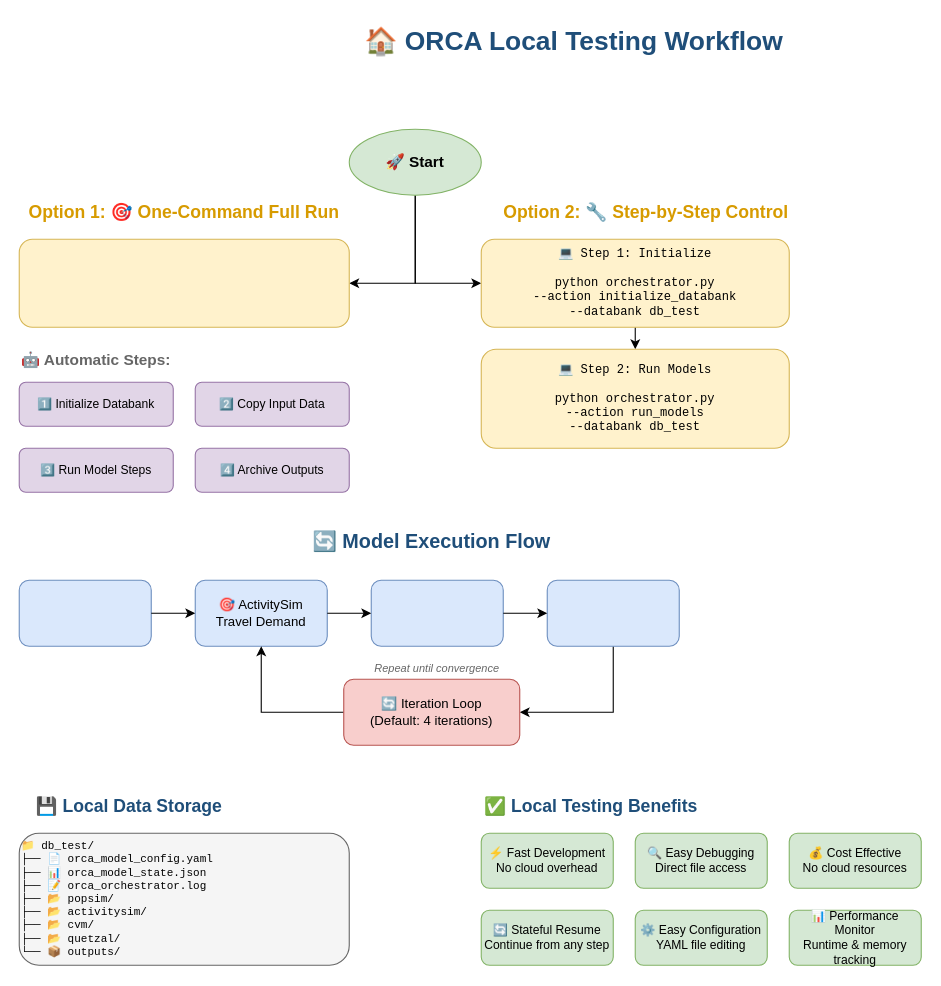
The diagram is 941 pixels wide and 986 high, and some of its shapes have lost their labels. Here are the shapes that lost their labels. From the top down, the box of each, then its label:
(18, 238, 349, 327): 💻 CLI Command python orchestrator.py --action run_models --databank db_test
(18, 579, 151, 646): 👥 PopSim Population Synthesis
(370, 579, 503, 646): 🚛 CVM Commercial Vehicles
(546, 579, 679, 646): 🌐 Quetzal Traffic Assignment
